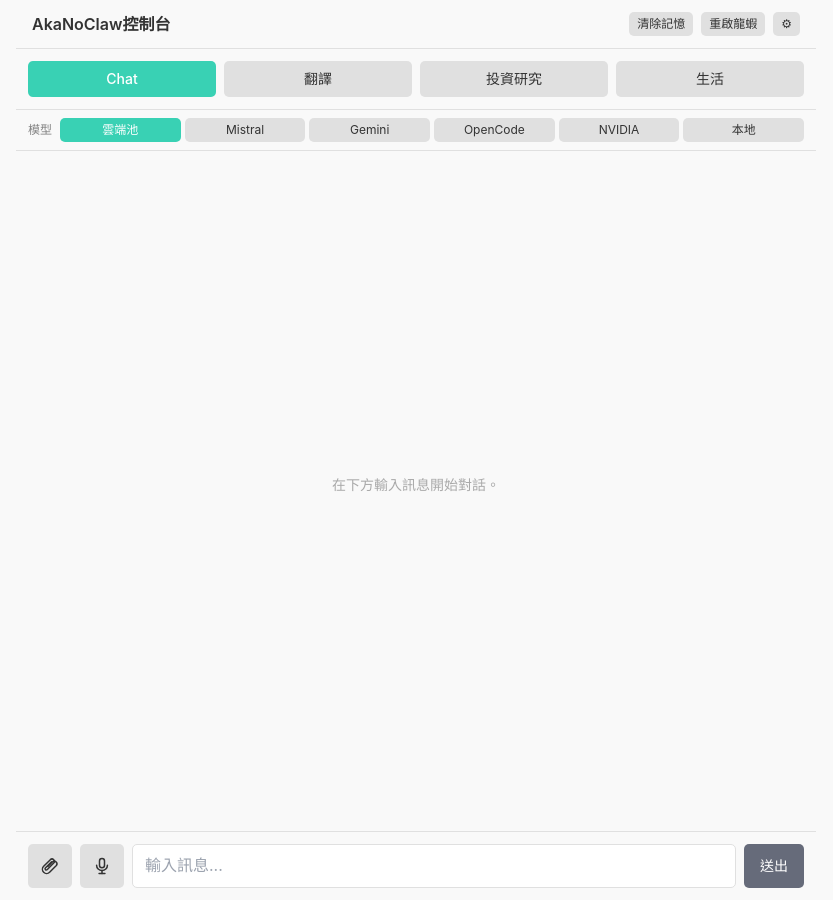
Test: App — workflow creation loop (web#8) › routes workflow creation redirect to runWorkflowCommand with create prefix
Step 1. Type "幫我做一個每天早上問候我，然後播放最愛音樂的工作流" into the text box → (434, 866), box [132,844,736,888]
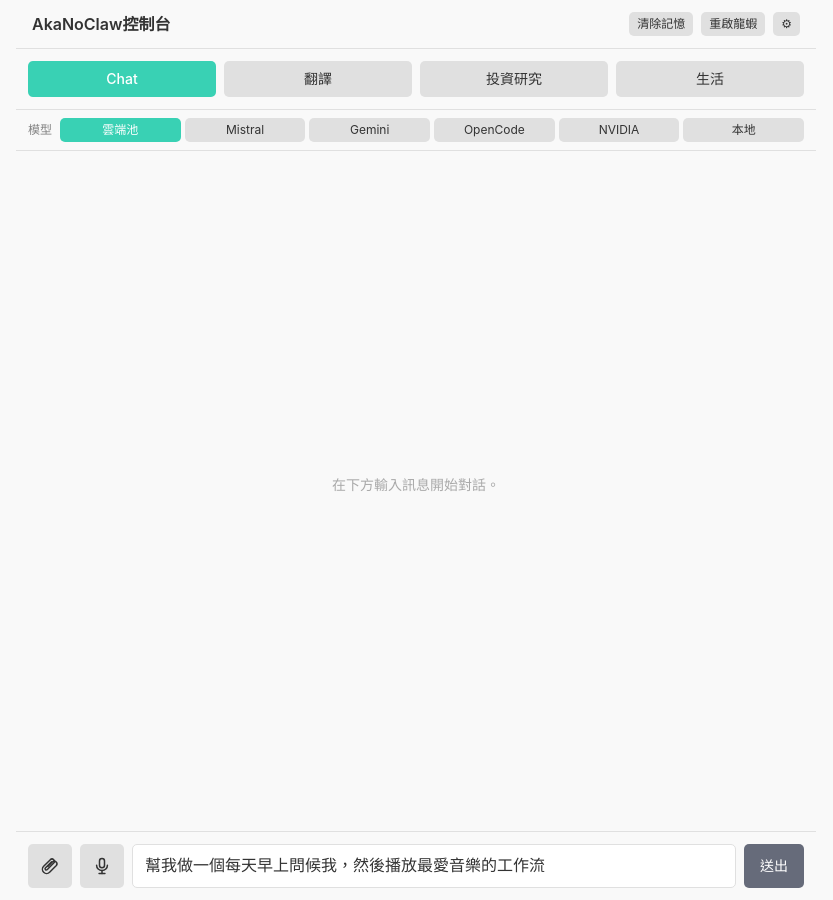
Step 2. Click the button "送出" → click(774, 866), box [744,844,804,888]
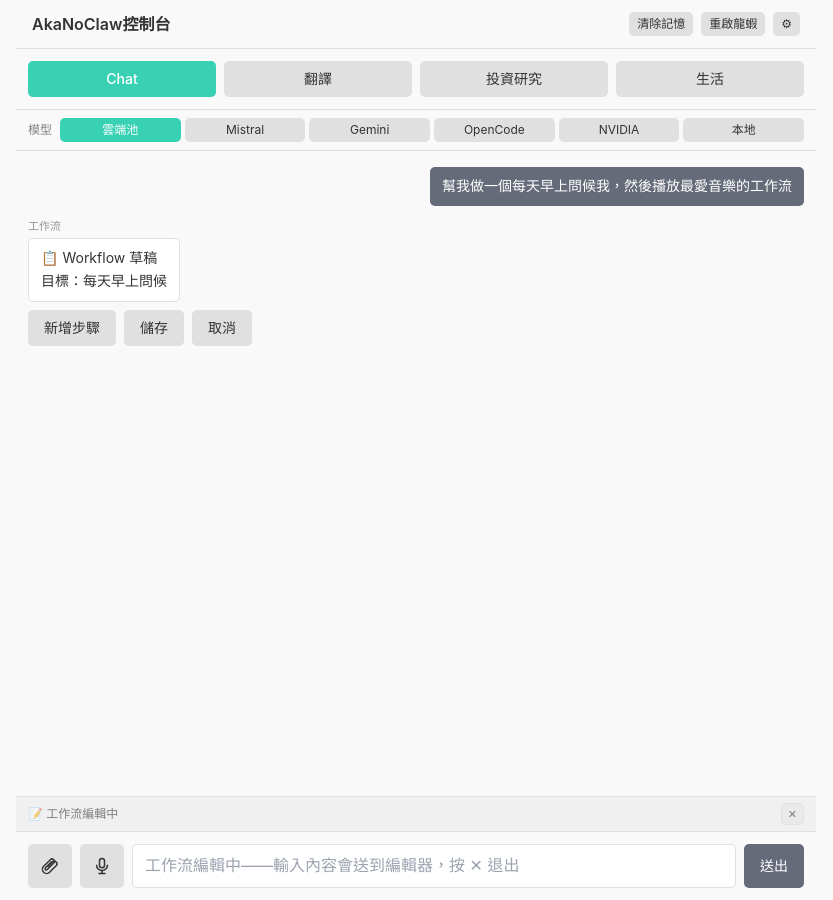
Expected: the text "📋 Workflow 草稿 目標：每天早上問候" is shown, [28,238,180,302]
